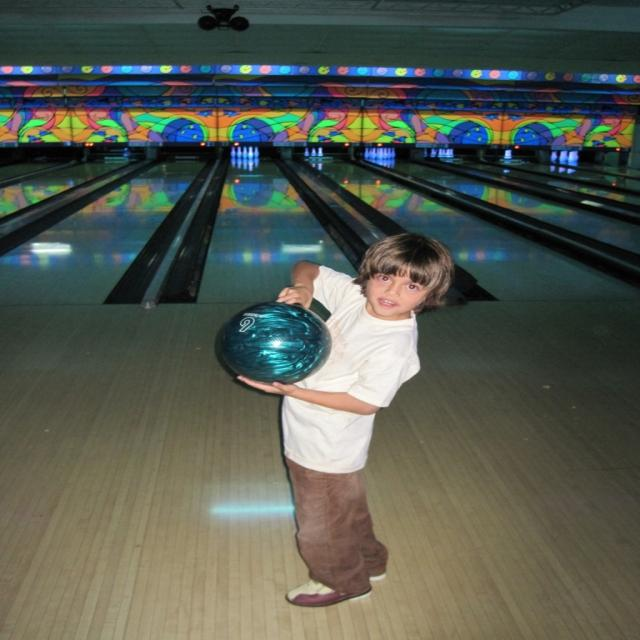Ball: (218, 306, 328, 385)
